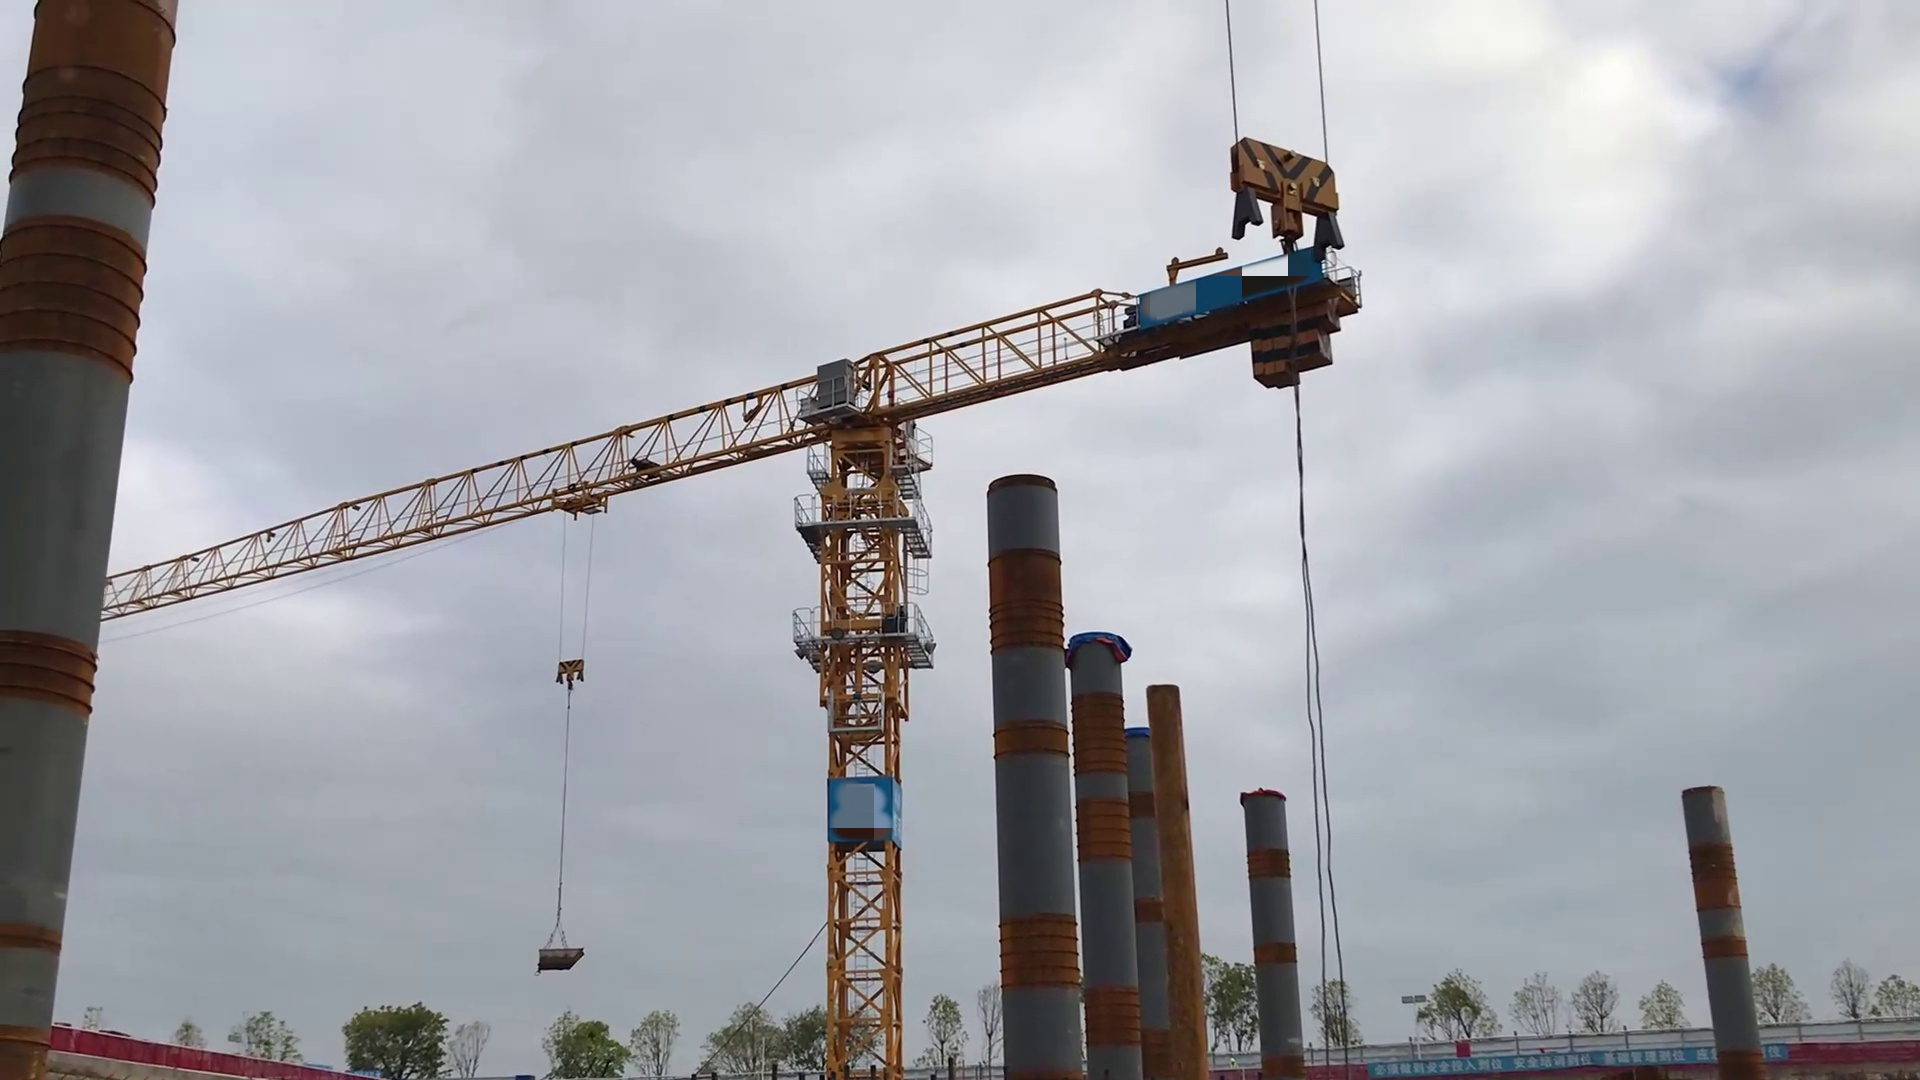hook: (1226, 133, 1346, 266), (551, 654, 589, 696)
hopper: (534, 945, 587, 971)
slogan: (1367, 1046, 1716, 1079)
